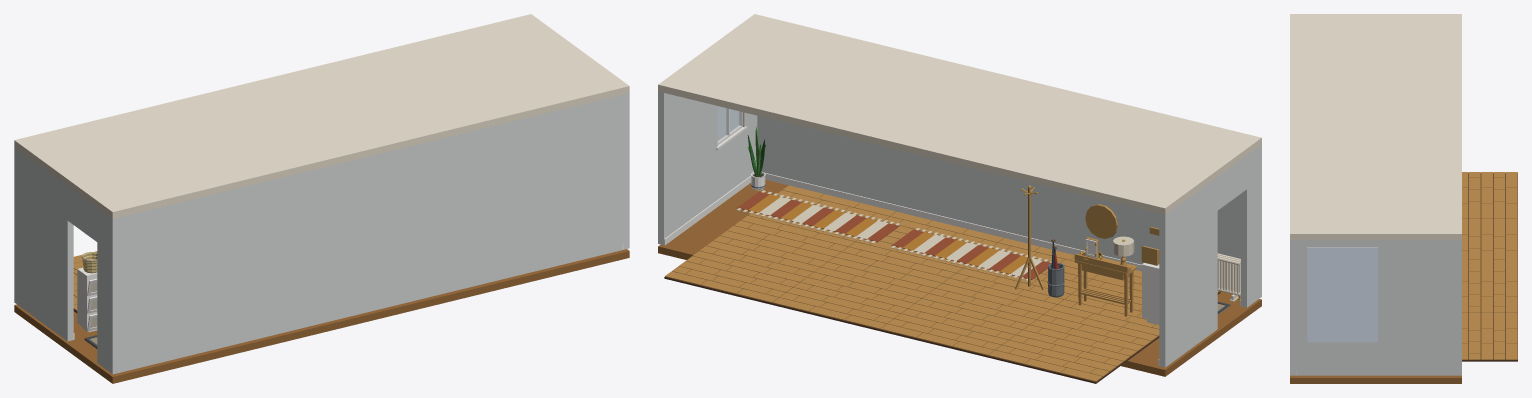
The model's file is SM_LPI_Room_Hall_Long.fbx.
The picture shows the model from 3 angles, left to right: view 1: azimuth 30°, elevation 25°; view 2: azimuth 150°, elevation 25°; view 3: azimuth 270°, elevation 25°; orthographic projection. The views are drawn at different scales.
Visible parts, largest first — view 1: SM_LPI_Room_Hall, SM_LPI_Storage_ShoeCabinet_01.001; view 2: SM_LPI_Room_Hall, SM_LPI_Floor_PlankOak_03.002, SM_LPI_Floor_PlankOak_03.006, SM_LPI_Floor_PlankOak_03.004, SM_LPI_Floor_PlankOak_03.008, SM_LPI_Floor_PlankOak_03.005, SM_LPI_Floor_PlankOak_03.007, SM_LPI_Floor_PlankOak_03.003, SM_LPI_Text_RugRunner_01.002, SM_LPI_Text_RugRunner_01.001, SM_LPI_Floor_PlankOak_03.001, SM_LPI_Table_Hall_01.001 (+7 smaller); view 3: SM_LPI_Room_Hall, SM_LPI_Room_HallGlass, SM_LPI_Floor_PlankOak_03.008, SM_LPI_Floor_PlankOak_03.006, SM_LPI_Floor_PlankOak_03.002, SM_LPI_Floor_PlankOak_03.004.
Boxes of the visible parts, <box> form: SM_LPI_Room_Hall: <box>14,14,629,383</box>; SM_LPI_Storage_ShoeCabinet_01.001: <box>77,267,97,332</box>; SM_LPI_Room_Hall: <box>658,14,1261,376</box>; SM_LPI_Floor_PlankOak_03.002: <box>988,309,1158,383</box>; SM_LPI_Floor_PlankOak_03.006: <box>772,257,941,330</box>; SM_LPI_Floor_PlankOak_03.004: <box>880,283,1049,357</box>; SM_LPI_Floor_PlankOak_03.008: <box>664,231,833,304</box>; SM_LPI_Floor_PlankOak_03.005: <box>835,212,1003,283</box>; SM_LPI_Floor_PlankOak_03.007: <box>727,185,895,257</box>; SM_LPI_Floor_PlankOak_03.003: <box>943,238,1098,309</box>; SM_LPI_Text_RugRunner_01.002: <box>737,190,899,243</box>; SM_LPI_Text_RugRunner_01.001: <box>891,228,1051,281</box>; SM_LPI_Floor_PlankOak_03.001: <box>1051,270,1220,337</box>; SM_LPI_Table_Hall_01.001: <box>1074,253,1136,316</box>; SM_LPI_Room_Hall: <box>1290,14,1461,383</box>; SM_LPI_Room_HallGlass: <box>1307,247,1377,342</box>; SM_LPI_Floor_PlankOak_03.008: <box>1462,312,1517,361</box>; SM_LPI_Floor_PlankOak_03.006: <box>1462,265,1517,313</box>; SM_LPI_Floor_PlankOak_03.002: <box>1462,172,1517,219</box>; SM_LPI_Floor_PlankOak_03.004: <box>1462,219,1517,266</box>.
Bounding box in the file's own units: 9.55 × 2.98 × 4.11.
